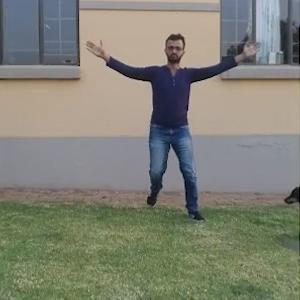takeoff: (78, 31, 241, 206)
